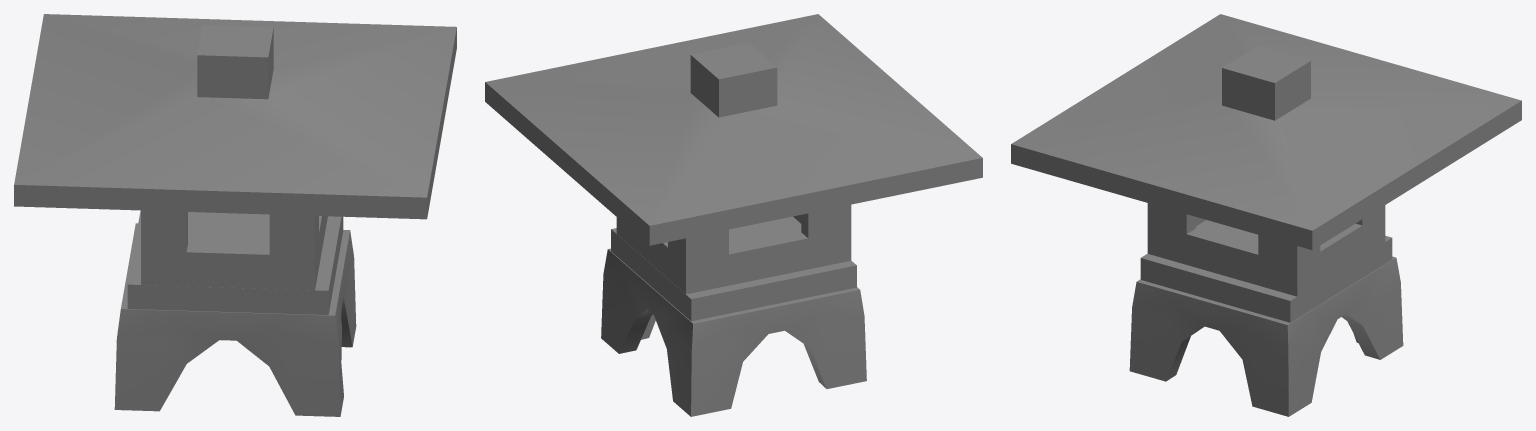
Rendered from StonePagoda_01.fbx.
3 renders of one model, left to right at view 1: azimuth 30°, elevation 25°; view 2: azimuth 150°, elevation 25°; view 3: azimuth 270°, elevation 25°, orthographic. The views are drawn at different scales.
Parts seen in each view (by area): view 1: StonePagoda_01; view 2: StonePagoda_01; view 3: StonePagoda_01.
Part boxes in pixels (<box>): StonePagoda_01: <box>14,14,456,416</box>; StonePagoda_01: <box>485,14,982,416</box>; StonePagoda_01: <box>1011,14,1521,416</box>.
Bounding box in the file's own units: 302 × 191 × 300.
